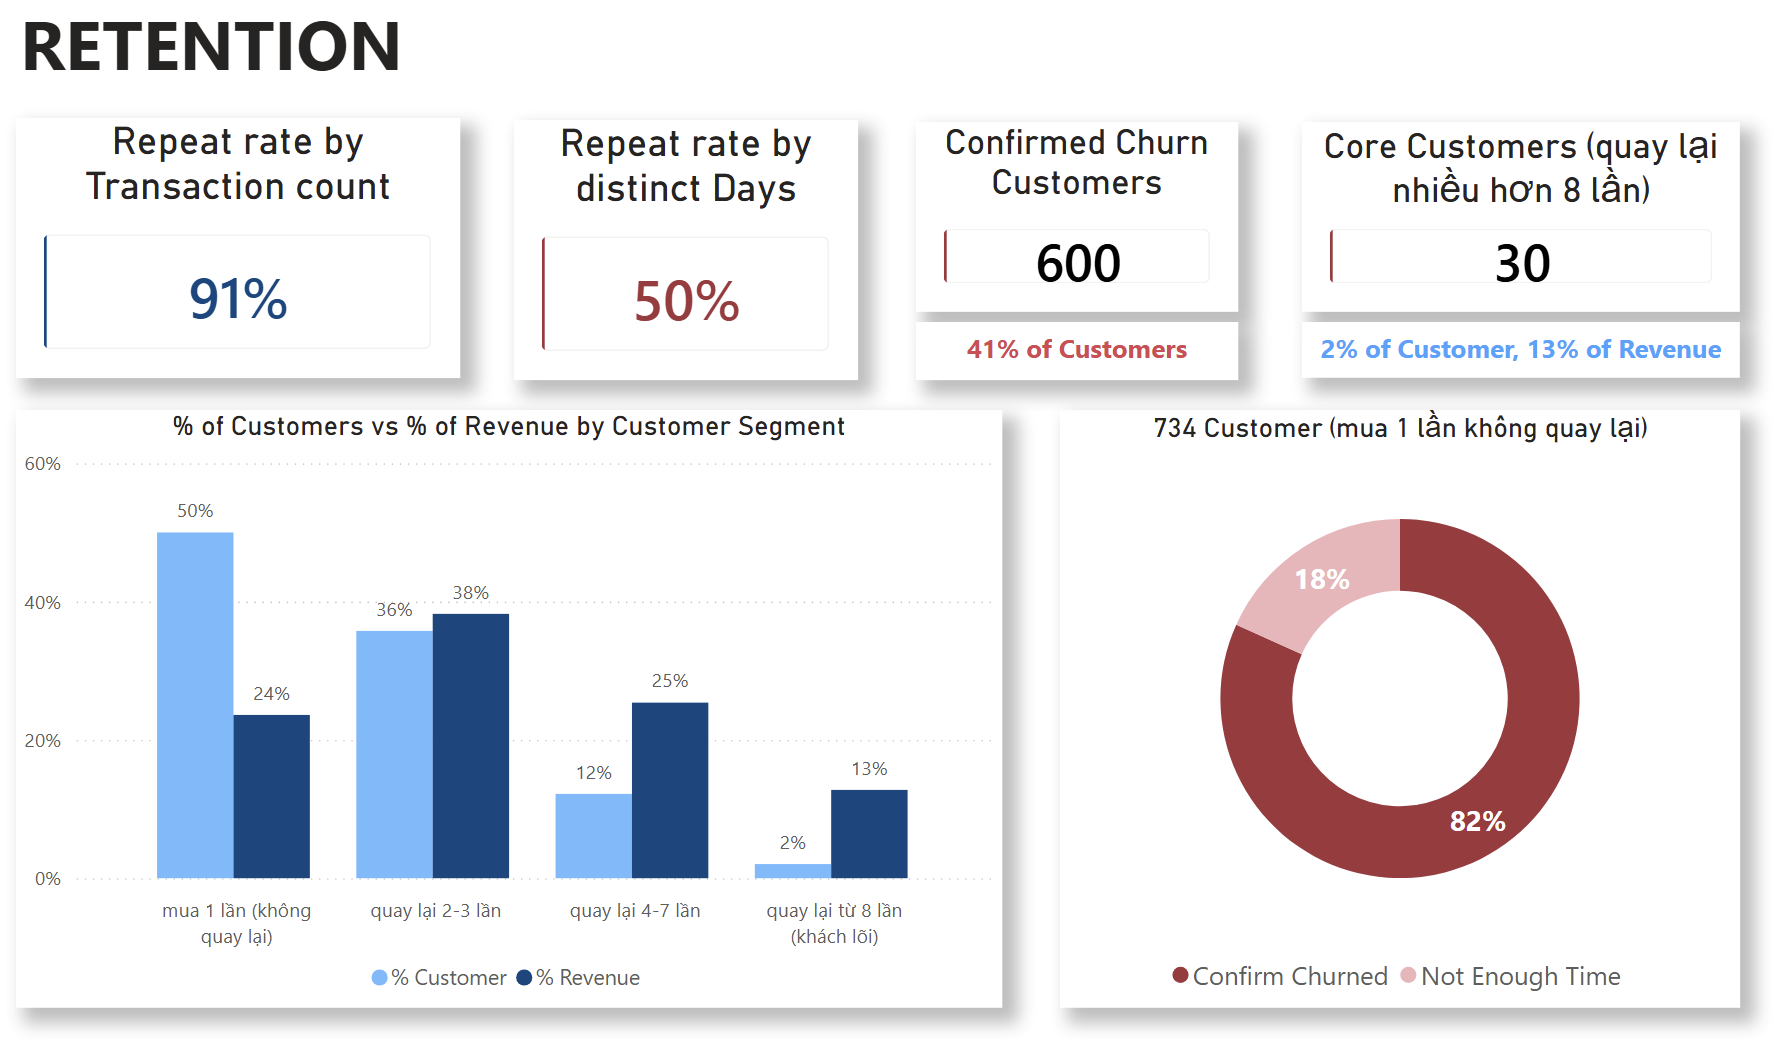

The dashboard page shown, as its layout file describes it:
{"tool":"powerbi","page":{"name":"Retention","canvas":[1280,720],"ordinal":1},"visuals":[{"type":"cardVisual","title":"Repeat rate by Transaction count","fields":{"Data":["Measure.Repeat rate by Transactions"]},"box":[26,87,274.8,160.9],"z":0},{"type":"cardVisual","title":"Repeat rate by distinct Days","fields":{"Data":["Measure.Repeat rate by Date"]},"box":[334.2,87.9,212.9,160.9],"z":1000},{"type":"clusteredColumnChart","title":"% of Customers vs % of Revenue by Customer Segment","fields":{"Y":["Measure.pct Customer by Group Customer","Measure.pct Revenue by Group customer"],"Category":["rfm.Nhom_Khach"]},"box":[26,267.5,610.3,370.1],"z":2000},{"type":"cardVisual","title":"Confirmed Churn Customers","fields":{"Data":["Measure.KH mua 1 lan"]},"box":[583.1,89.5,199.3,117.6],"z":3000},{"type":"donutChart","title":"734 Customer (mua 1 lần  không quay lại)","fields":{"Y":["Measure.KH mua 1 lan","Measure.Not_Enough_Time"]},"box":[672.2,267.4,420.9,370.1],"z":4000},{"type":"cardVisual","title":"Core Customers (quay lại nhiều hơn 8 lần)","fields":{"Data":["Measure.core Customer"]},"box":[822,89.5,271.1,117.6],"z":5000},{"type":"textbox","box":[583.1,213.3,199.3,35.9],"z":6000},{"type":"textbox","box":[822,213.3,271.1,34.7],"z":7000},{"type":"textbox","box":[23.3,6.7,375,73.3],"z":8000}]}

Visuals, with their boxes on the page's 1280x720 design canvas (x1, y1, x2, y2). These are canvas units, not pixel positions in the 1774x1046 screenshot, which may show the page scaled, cropped or inside an application window:
"Repeat rate by Transaction count" cardVisual: left=26, top=87, right=301, bottom=248
"Repeat rate by distinct Days" cardVisual: left=334, top=88, right=547, bottom=249
"% of Customers vs % of Revenue by Customer Segment" clusteredColumnChart: left=26, top=268, right=636, bottom=638
"Confirmed Churn Customers" cardVisual: left=583, top=90, right=782, bottom=207
"734 Customer (mua 1 lần  không quay lại)" donutChart: left=672, top=267, right=1093, bottom=638
"Core Customers (quay lại nhiều hơn 8 lần)" cardVisual: left=822, top=90, right=1093, bottom=207
textbox: left=583, top=213, right=782, bottom=249
textbox: left=822, top=213, right=1093, bottom=248
textbox: left=23, top=7, right=398, bottom=80
